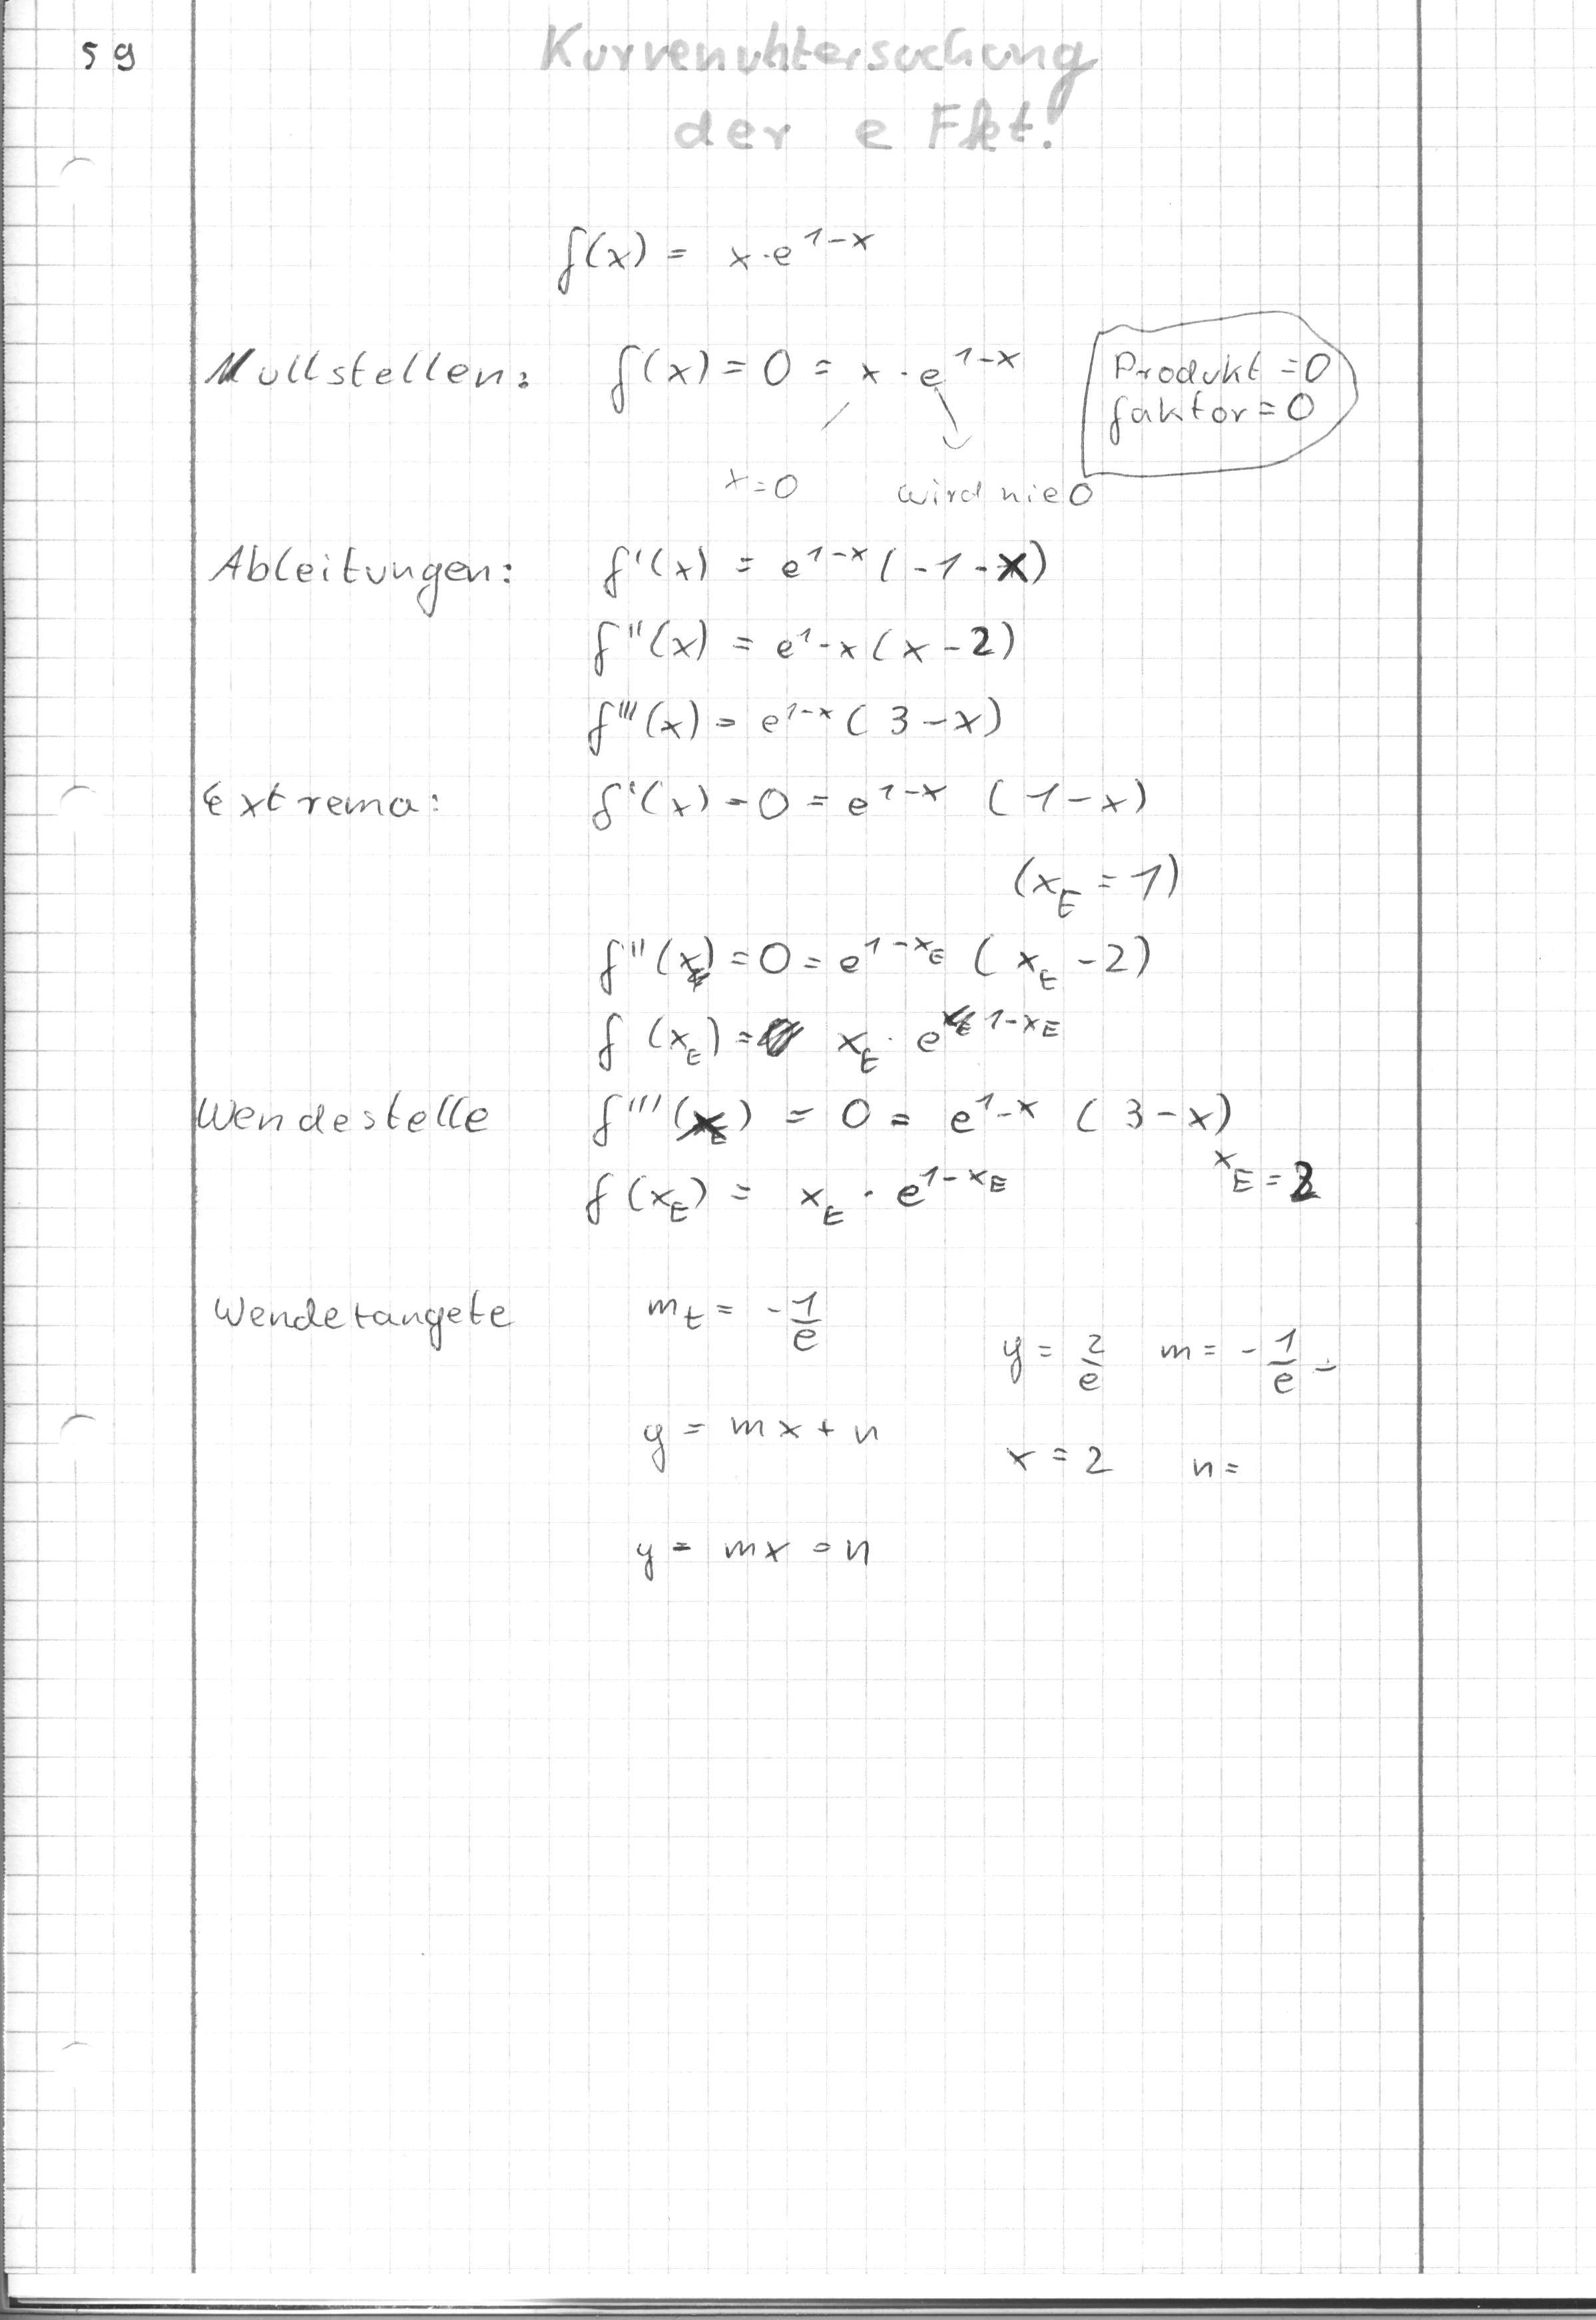word: (573, 920, 1340, 1244), (568, 526, 1160, 826), (595, 315, 1352, 515), (984, 1287, 1348, 1506), (626, 1405, 892, 1593), (194, 324, 553, 426), (537, 202, 905, 300), (197, 529, 525, 626), (203, 1269, 529, 1366), (632, 1269, 854, 1376), (188, 1084, 503, 1146), (997, 832, 1205, 922), (194, 765, 450, 835)
